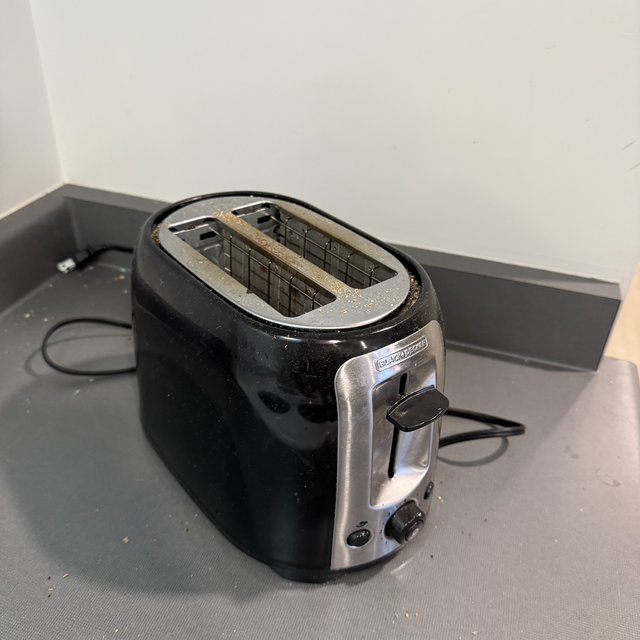Toaster: (125, 187, 475, 574)
